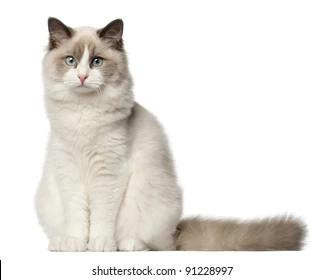ragdoll: (41, 9, 129, 106)
